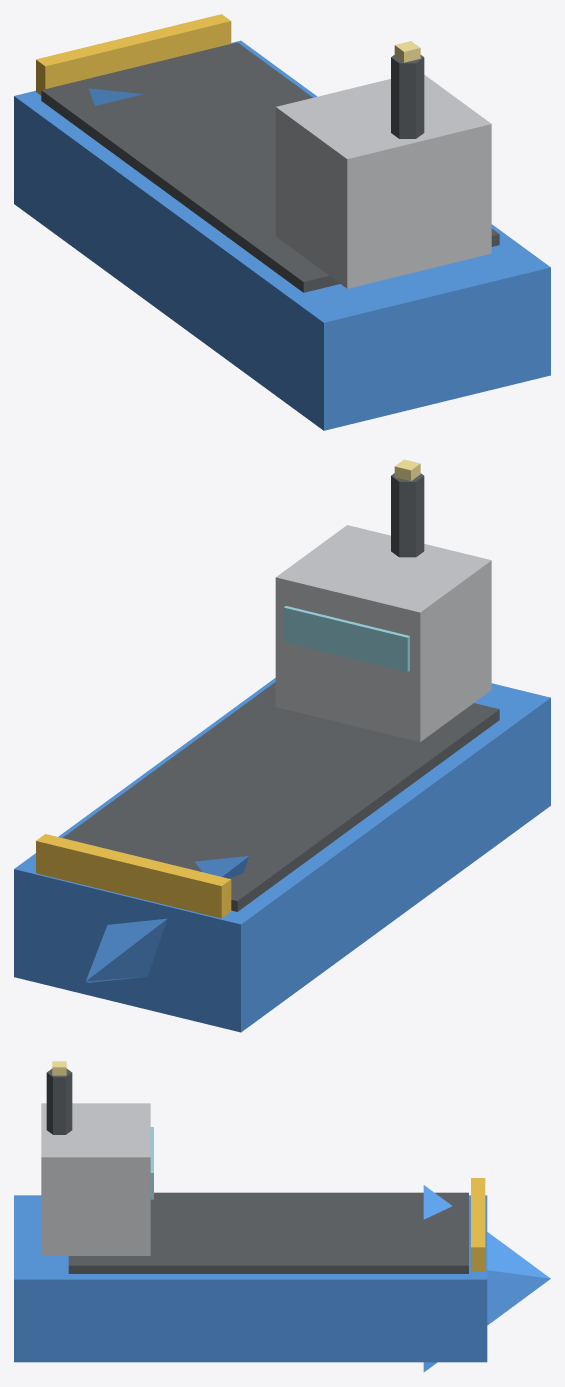
The model's file is TransportShip.fbx.
The picture shows the model from 3 angles, top to bottom: view 1: azimuth 30°, elevation 25°; view 2: azimuth 150°, elevation 25°; view 3: azimuth 270°, elevation 25°; orthographic projection. The views are drawn at different scales.
Visible parts, largest first — view 1: Team.007, Metal.007, Dark.007, Hazard.006; view 2: Team.007, Dark.007, Metal.007, Hazard.006, Glass.002; view 3: Team.007, Dark.007, Metal.007, Hazard.006.
Part boxes in pixels (box(x1,y1,x2,y2)): Team.007: box(14, 40, 550, 430); Metal.007: box(275, 75, 491, 288); Dark.007: box(41, 42, 499, 292); Hazard.006: box(36, 14, 231, 95); Team.007: box(14, 678, 550, 1032); Dark.007: box(63, 473, 499, 911); Metal.007: box(275, 525, 491, 741); Hazard.006: box(36, 834, 231, 918); Glass.002: box(283, 606, 409, 672); Team.007: box(14, 1185, 550, 1372); Dark.007: box(46, 1069, 468, 1273); Metal.007: box(41, 1103, 150, 1255); Hazard.006: box(471, 1178, 485, 1271).
Size of the model in its own units: 110 by 169 by 295.
